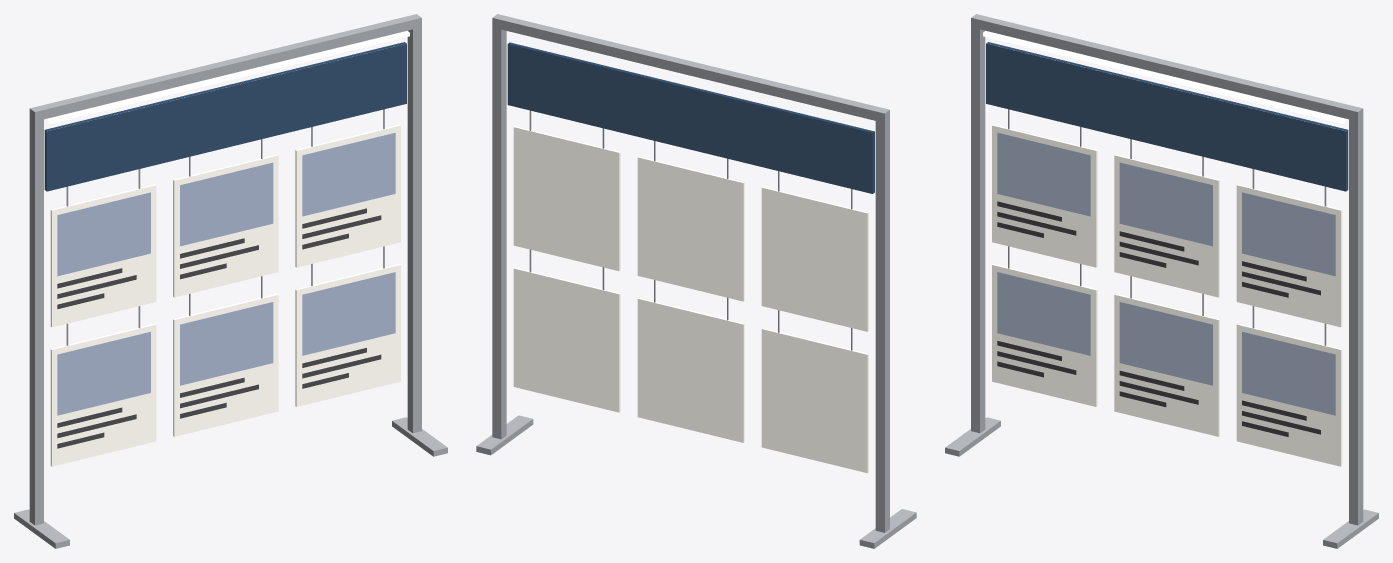
File: agent_window.glb
3 views of the same model, side by side, from view 1: azimuth 30°, elevation 25°; view 2: azimuth 150°, elevation 25°; view 3: azimuth 330°, elevation 25° (orthographic).
Parts seen in each view (by area): view 1: agent_window; view 2: agent_window; view 3: agent_window.
Part boxes in pixels (x1=…): agent_window: x1=14, y1=14, x2=447, y2=548; agent_window: x1=476, y1=14, x2=916, y2=548; agent_window: x1=945, y1=14, x2=1378, y2=548.
Bounding box in the file's own units: 2.18 × 2.22 × 0.4.
